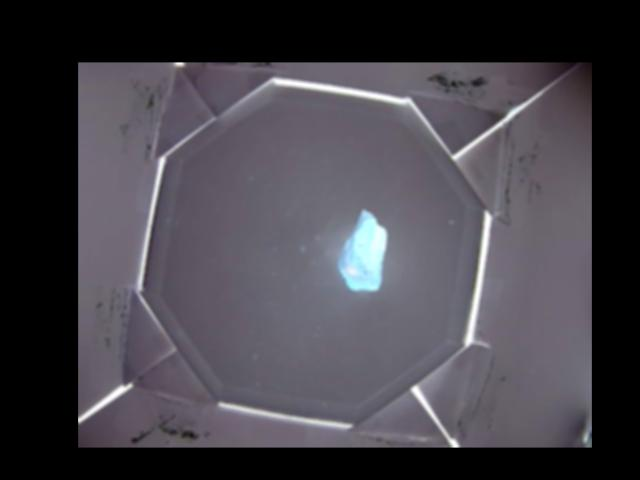Brisk: (338, 210, 387, 291)
